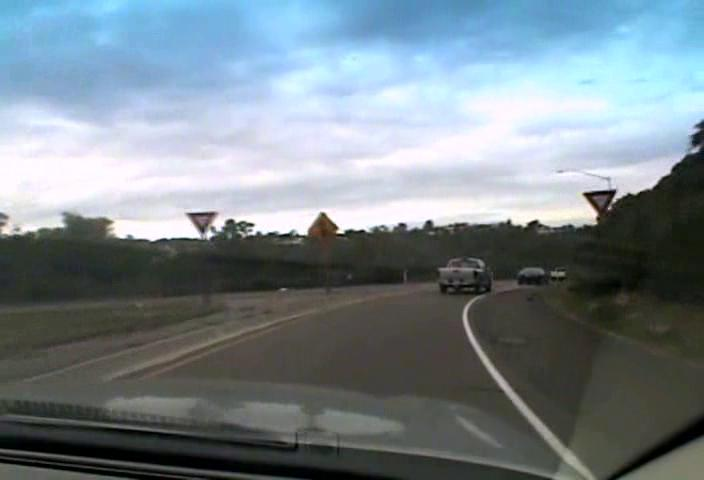yield: (581, 188, 617, 216)
